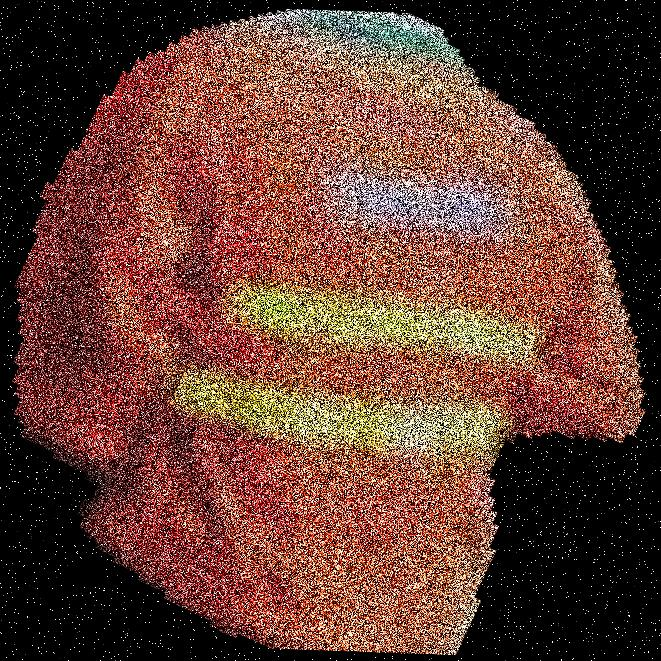Colete: (99, 0, 577, 660)
